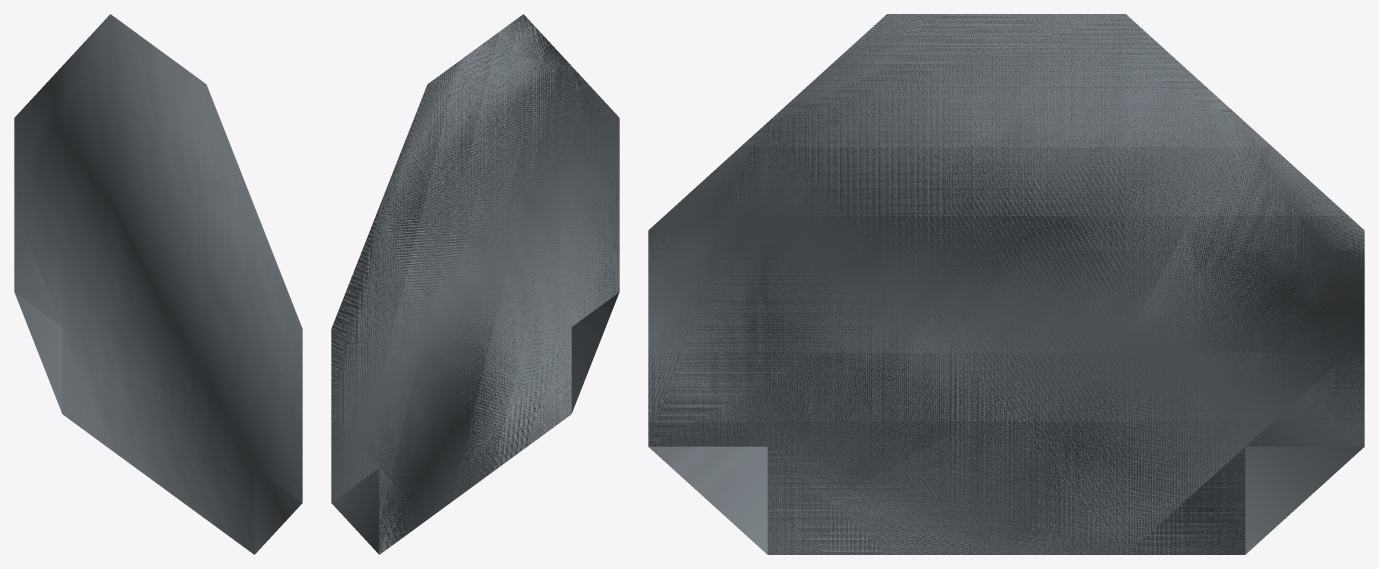
The picture shows the model from 3 angles, left to right: view 1: azimuth 30°, elevation 25°; view 2: azimuth 150°, elevation 25°; view 3: azimuth 270°, elevation 25°; orthographic projection. The views are drawn at different scales.
Size of the model in its own units: 0 by 0.4 by 0.48.
1 material, 1 textured.
